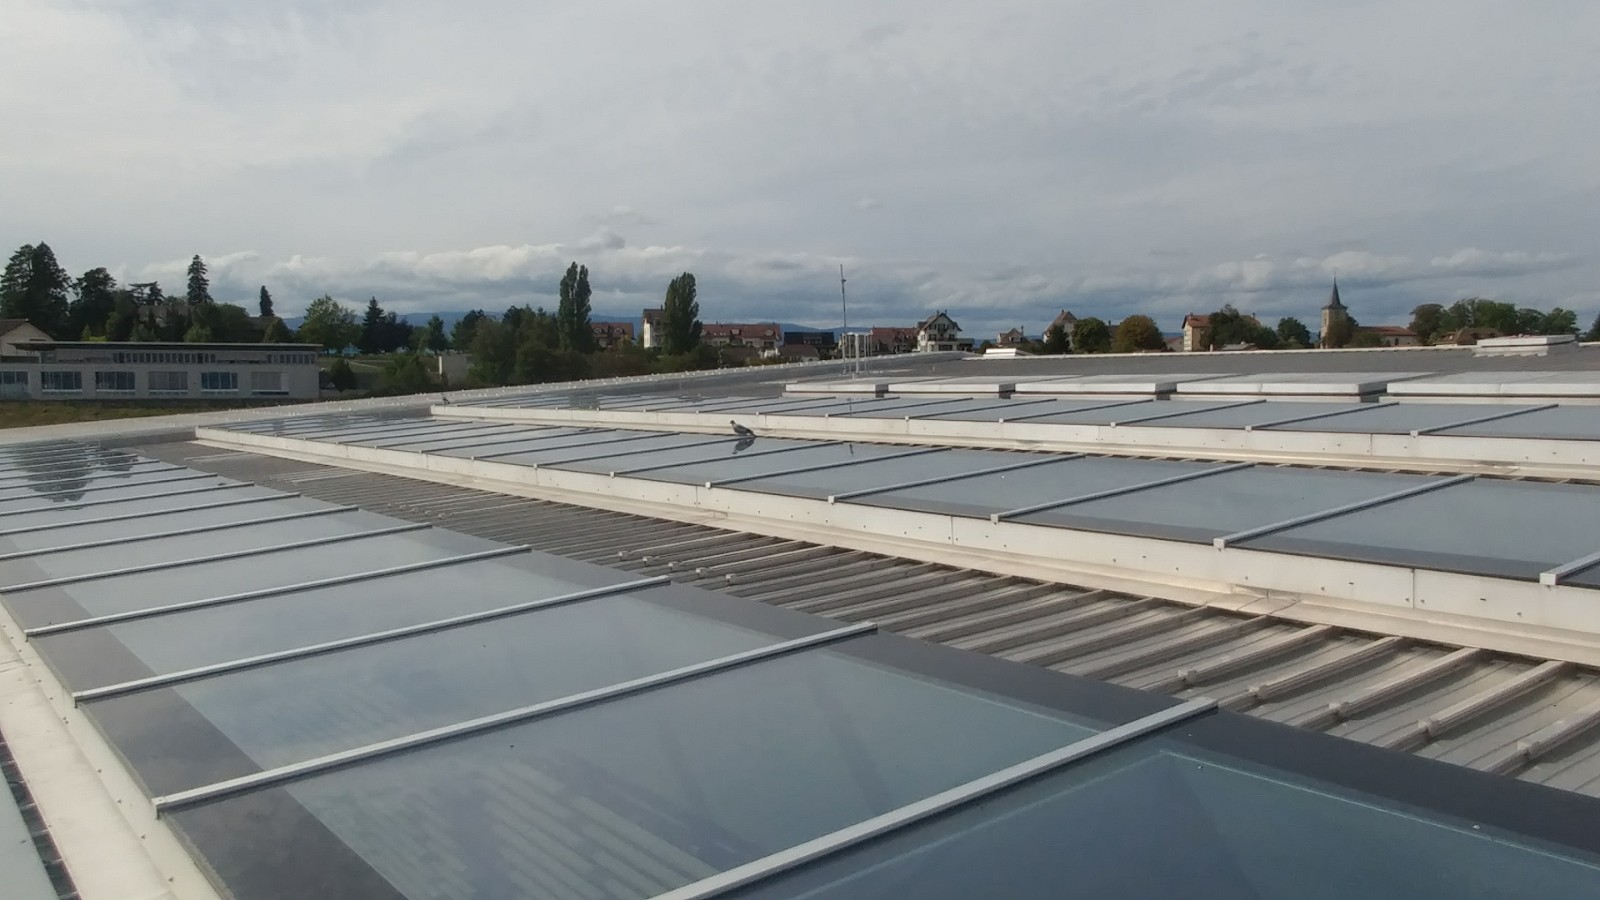Pigeon: (724, 414, 759, 440)
